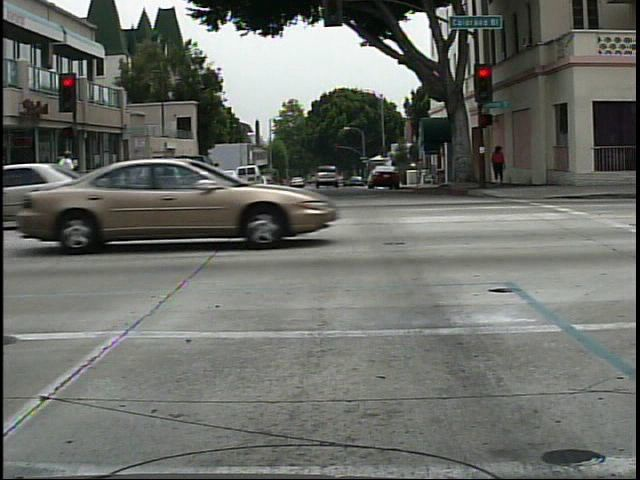person: (51, 143, 80, 205), (491, 143, 507, 183)
